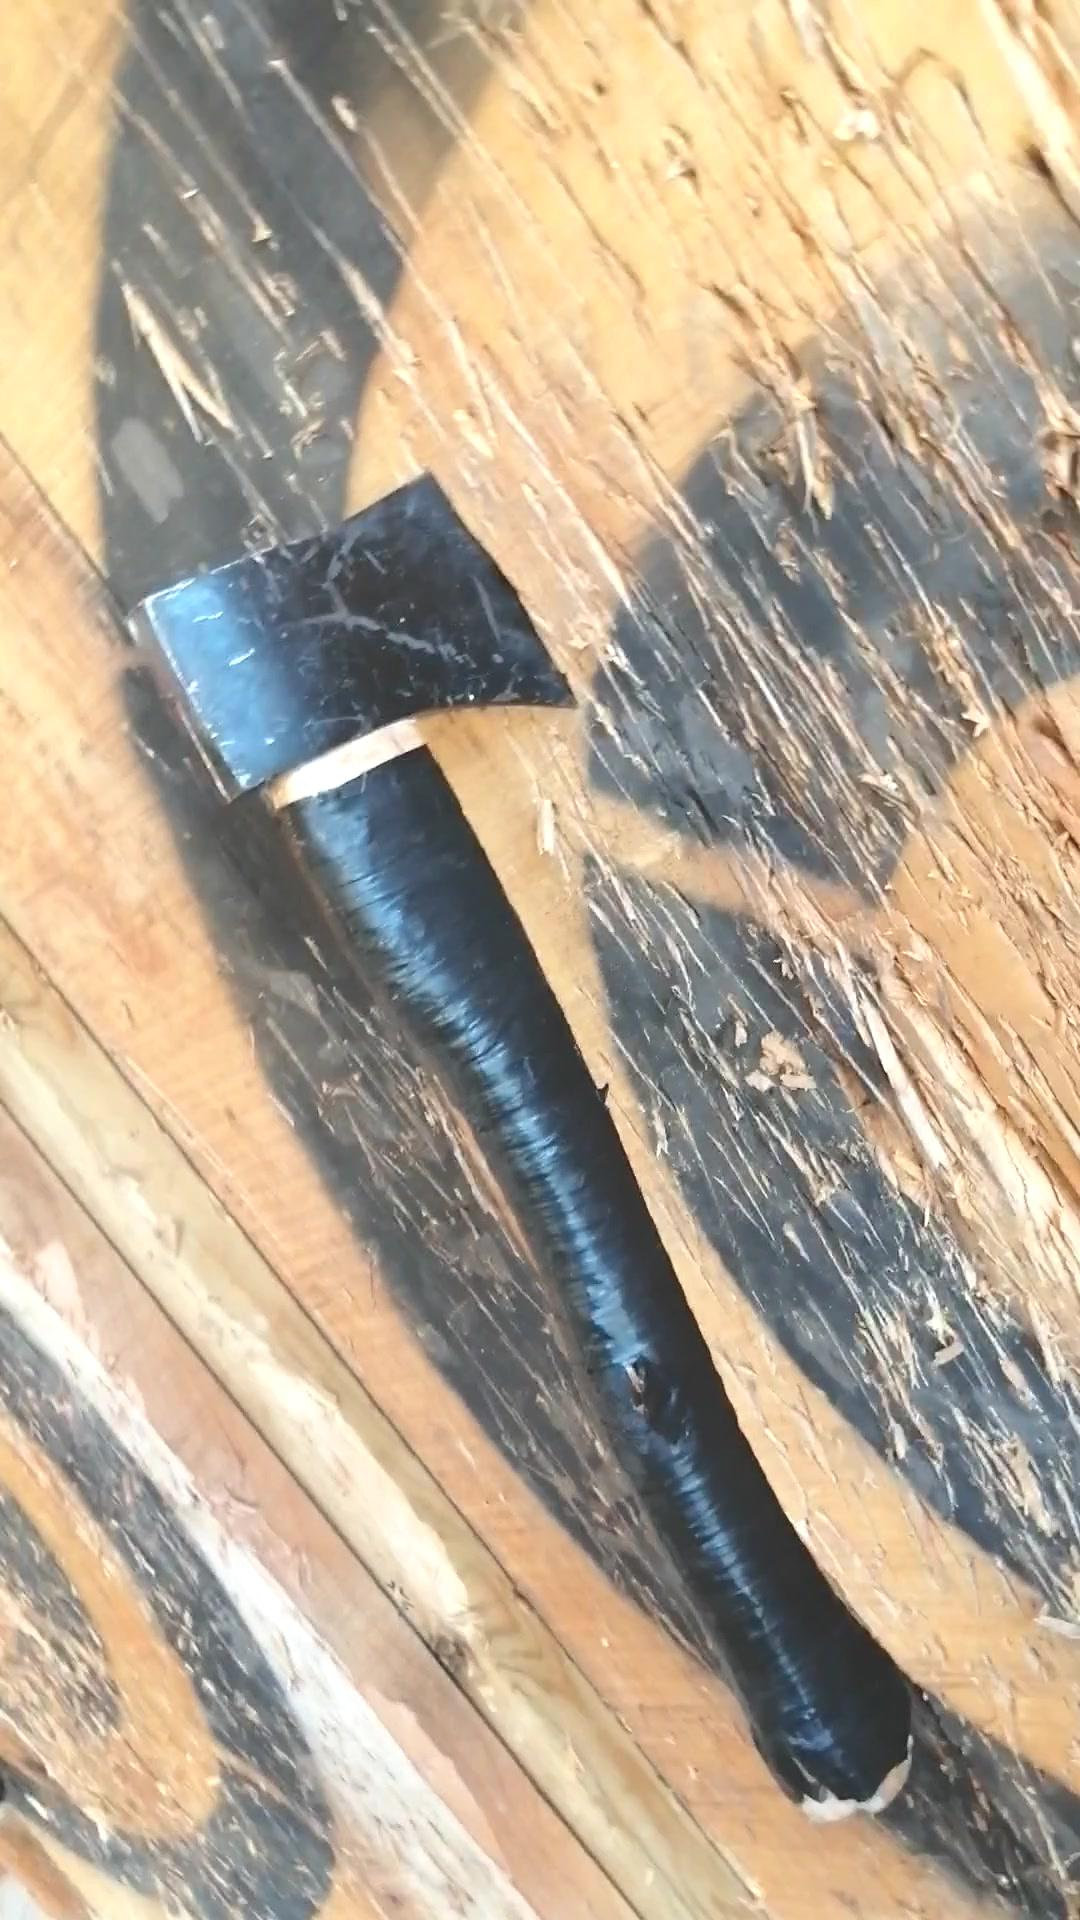Hand Axe: (135, 460, 583, 803)
